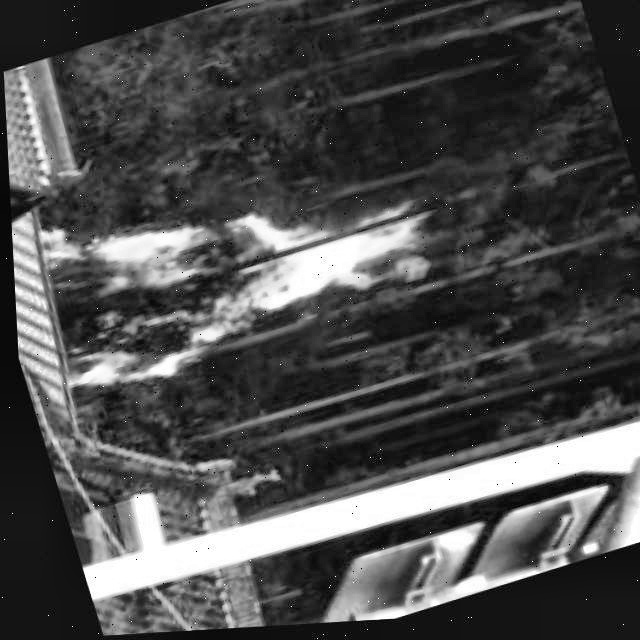Fire: (22, 144, 433, 407)
